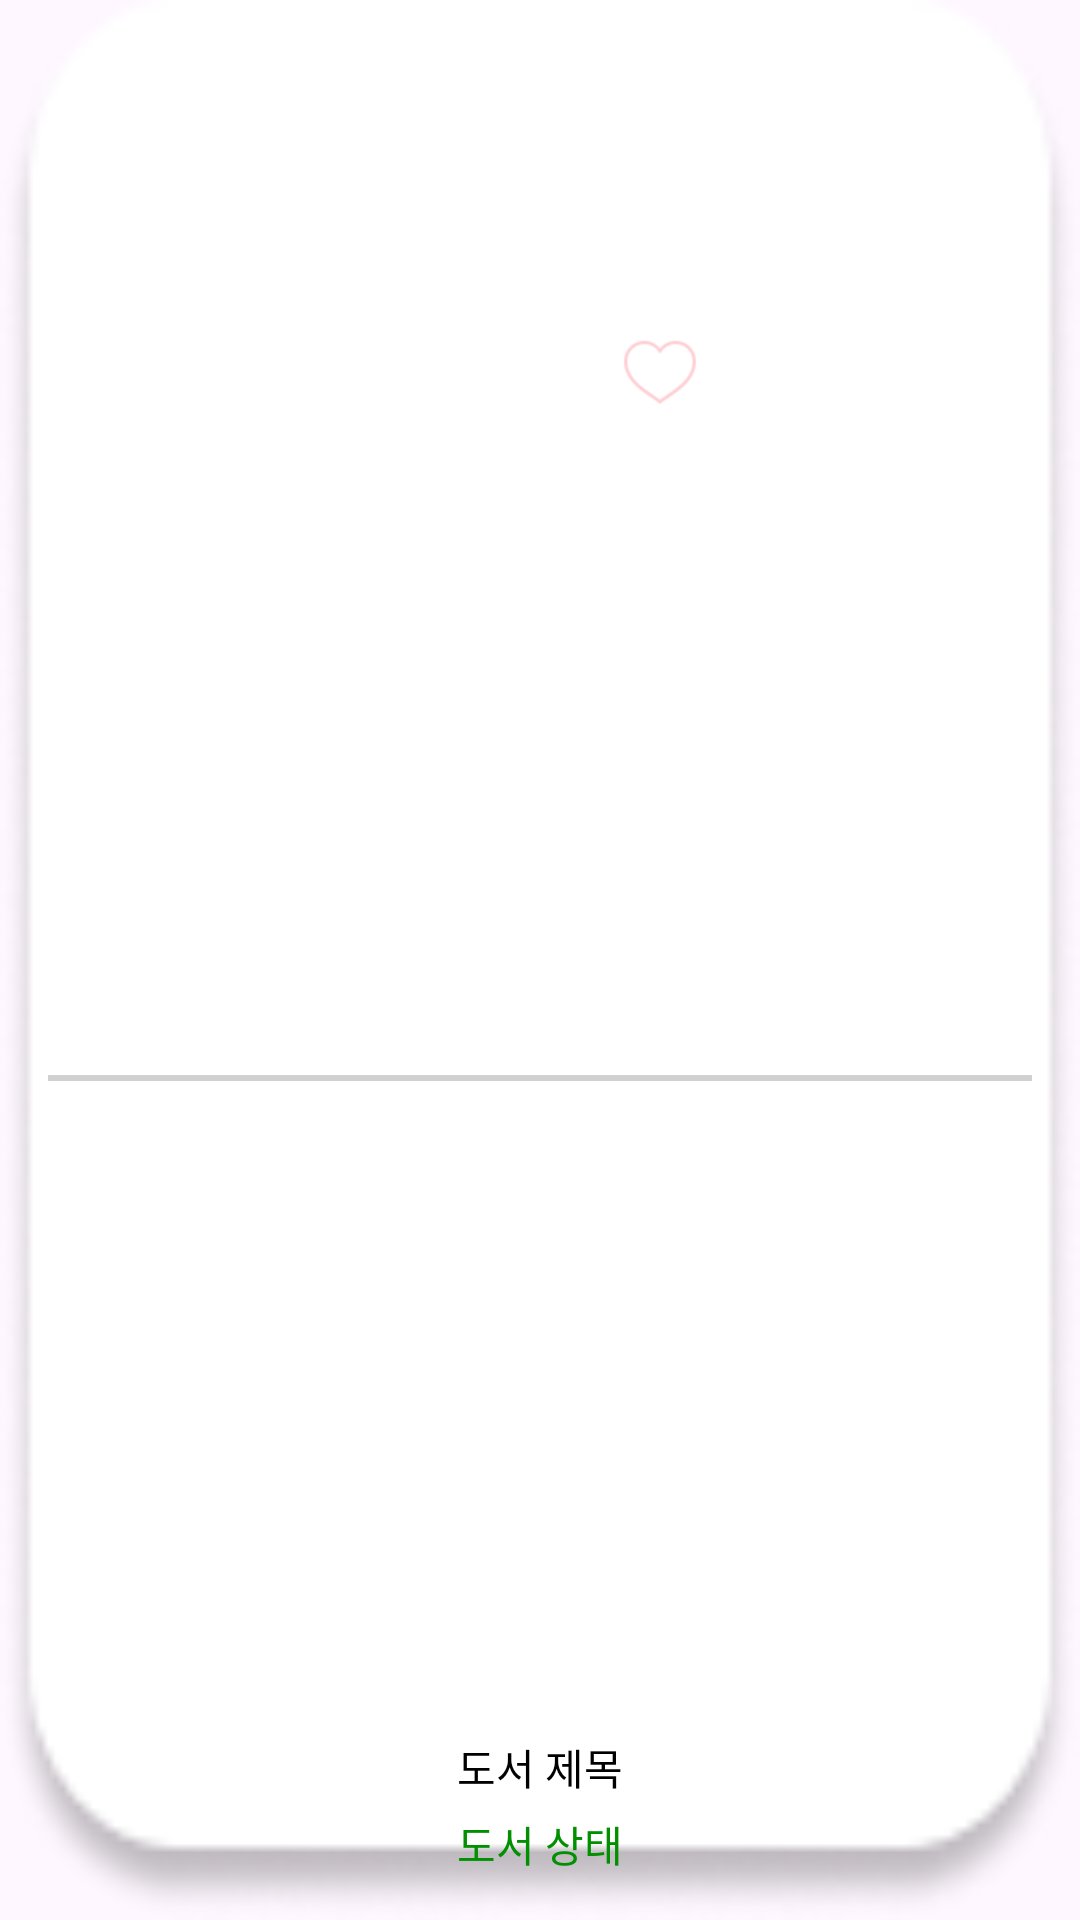

Icons on this 1080 × 1920 Android screen, each with its box as (x1, y1, x2, y2):
empty heart: (624, 341, 696, 403)
